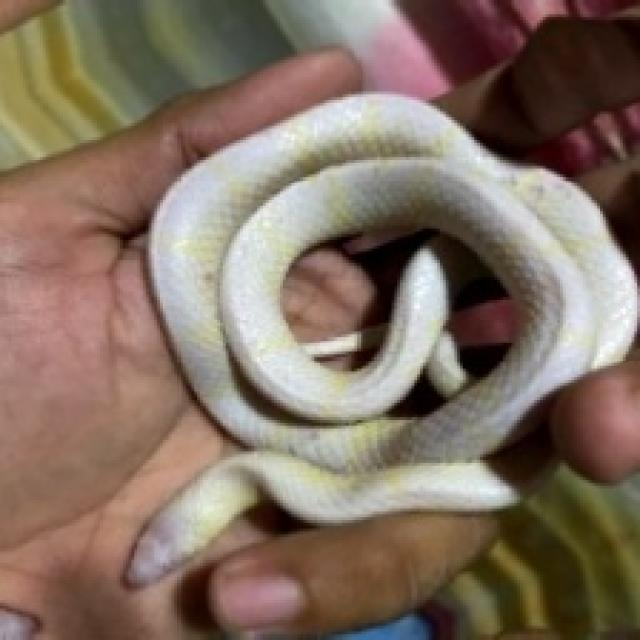gunthers philippine shrub snake: (129, 94, 634, 580), (280, 226, 520, 383)
